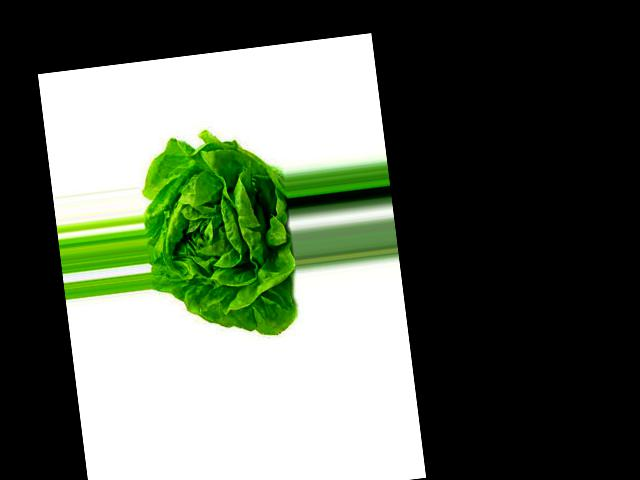lettuce: (182, 149, 271, 274)
